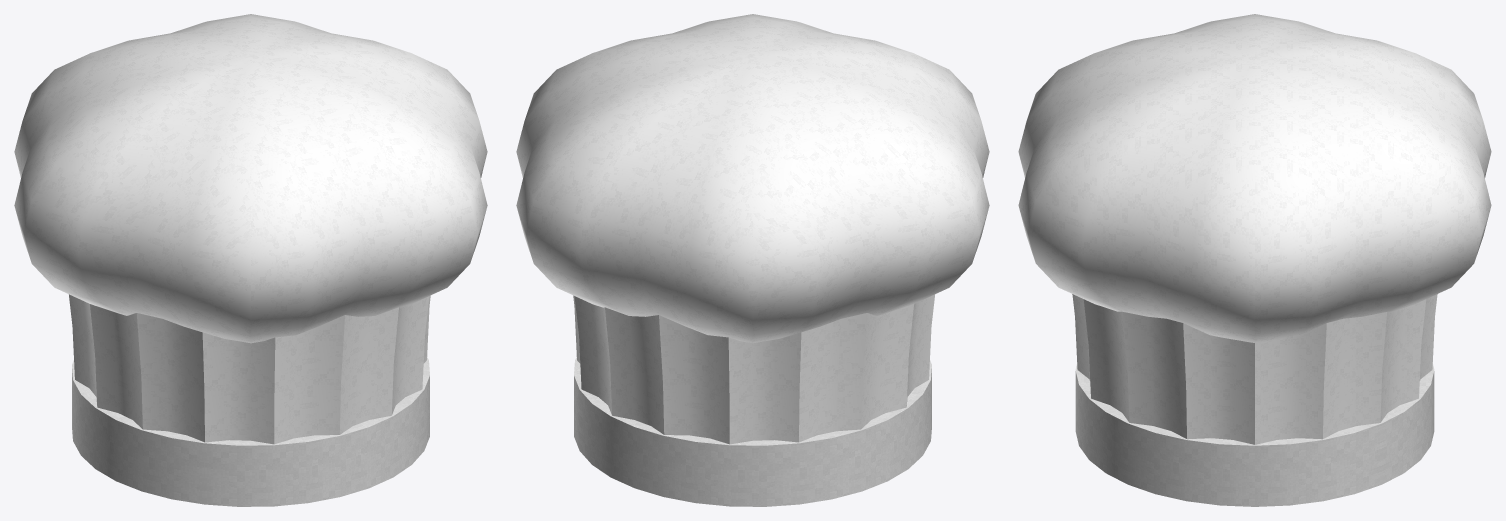
Rendered from x_hat_chef.glb.
The picture shows the model from 3 angles, left to right: view 1: azimuth 30°, elevation 25°; view 2: azimuth 150°, elevation 25°; view 3: azimuth 270°, elevation 25°; orthographic projection.
Visible parts, largest first — view 1: hat_body.005, hat_band.002; view 2: hat_body.005, hat_band.002; view 3: hat_body.005, hat_band.002.
Boxes of the visible parts, left/top/right/bottom form: hat_body.005: left=14, top=14, right=487, bottom=444; hat_band.002: left=72, top=357, right=429, bottom=506; hat_body.005: left=516, top=14, right=989, bottom=444; hat_band.002: left=574, top=357, right=931, bottom=506; hat_body.005: left=1018, top=14, right=1491, bottom=444; hat_band.002: left=1075, top=363, right=1434, bottom=506.
Size of the model in its own units: 1.24 by 0.979 by 1.12.
2 materials, 2 textured.
